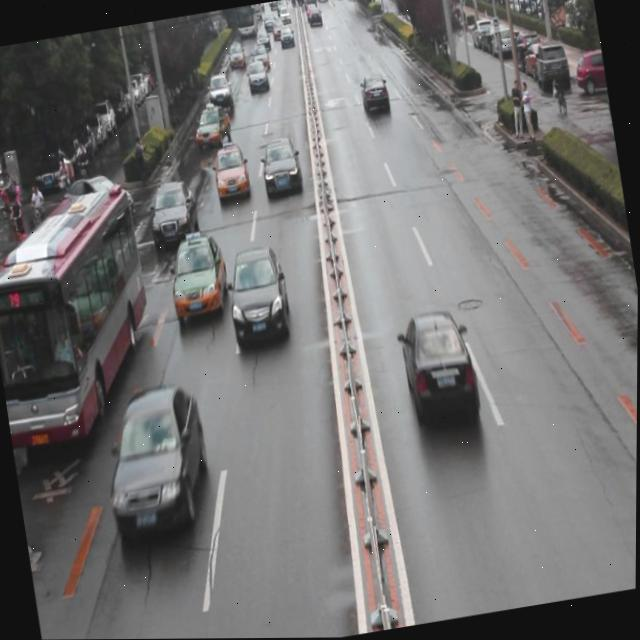car: (95, 380, 220, 548), (393, 304, 483, 434), (222, 245, 294, 345), (165, 226, 234, 329), (61, 168, 137, 228), (147, 176, 203, 254), (259, 138, 304, 197), (211, 138, 251, 201), (191, 99, 234, 148), (357, 72, 391, 120), (206, 72, 236, 115), (245, 59, 271, 92)
van: (0, 181, 168, 454)
